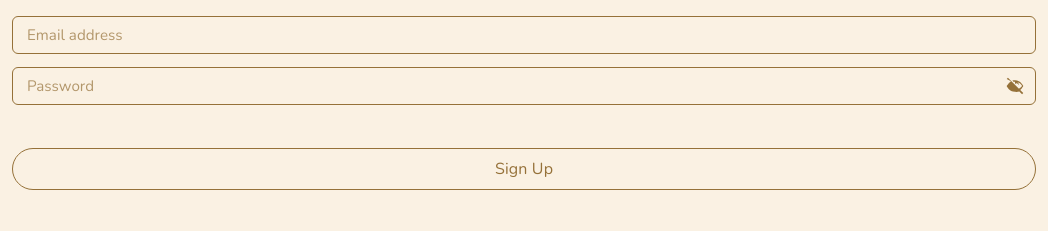
AuthForm validation and submit › renders API field errors in heading colour alert
Type "dup@example.com" into the field labelled "Email" at (524, 35), box x1=12 y1=16 x2=1036 y2=54
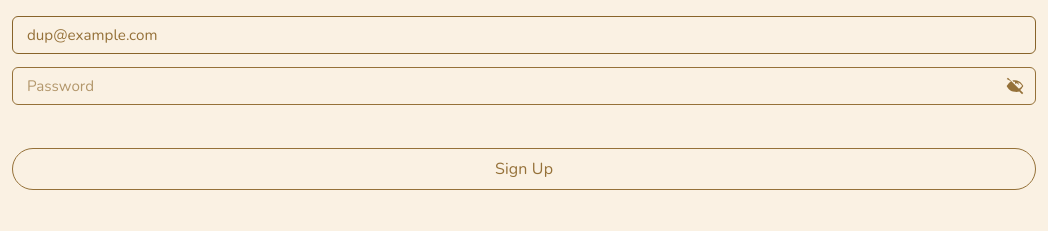
Type "securepass1" into the password field labelled "Password" at (524, 86), box x1=12 y1=67 x2=1036 y2=105
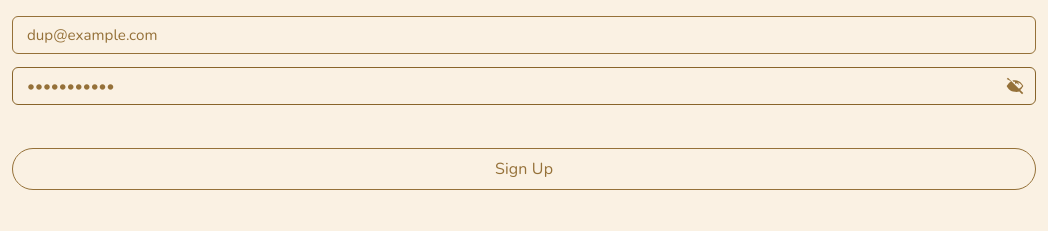
Click the button with test id "auth-submit" at (524, 169), box x1=12 y1=148 x2=1036 y2=190
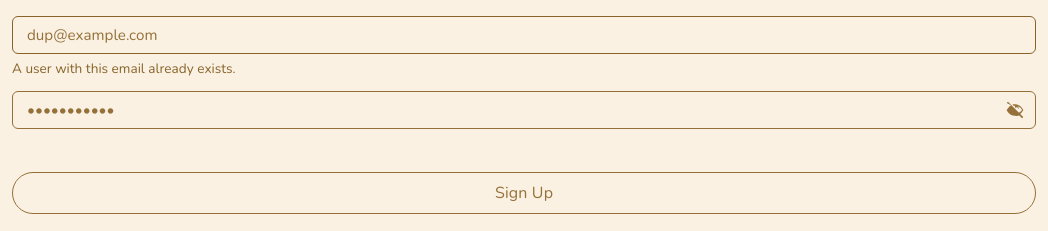
expect the text "A user with this email already exists." is shown: met, box x1=12 y1=59 x2=236 y2=78
